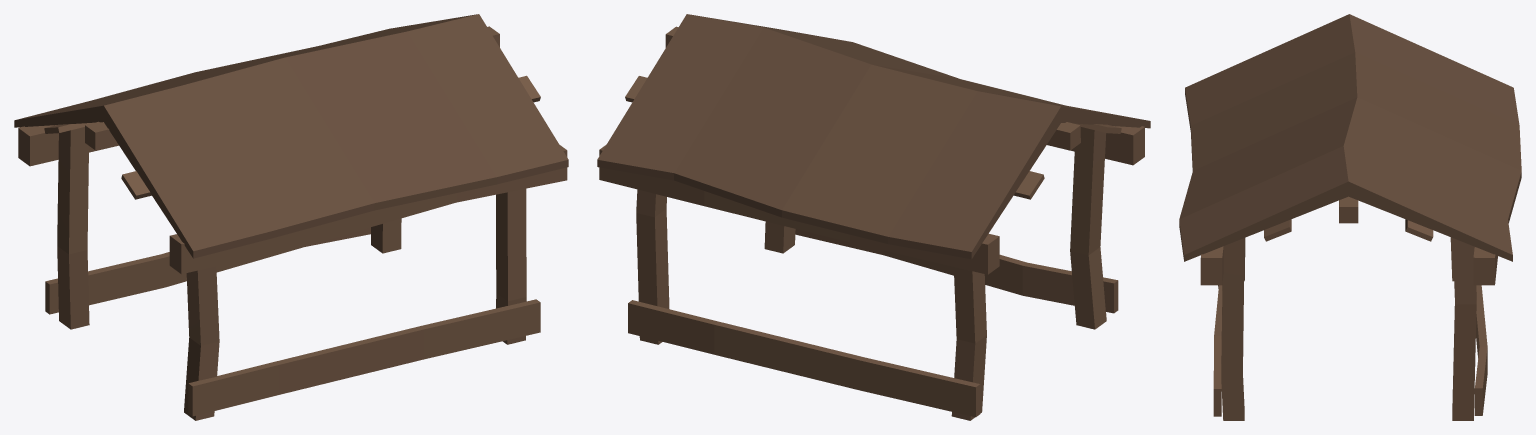
File: house_forest_2.fbx
The picture shows the model from 3 angles, left to right: view 1: azimuth 30°, elevation 25°; view 2: azimuth 150°, elevation 25°; view 3: azimuth 270°, elevation 25°; orthographic projection. The views are drawn at different scales.
Visible parts, largest first — view 1: house_forest_2; view 2: house_forest_2; view 3: house_forest_2.
Boxes of the visible parts, bbox=[...] form: house_forest_2: bbox=[14, 14, 568, 420]; house_forest_2: bbox=[597, 14, 1150, 420]; house_forest_2: bbox=[1179, 14, 1521, 420].
Size of the model in its own units: 941 by 608 by 751.
